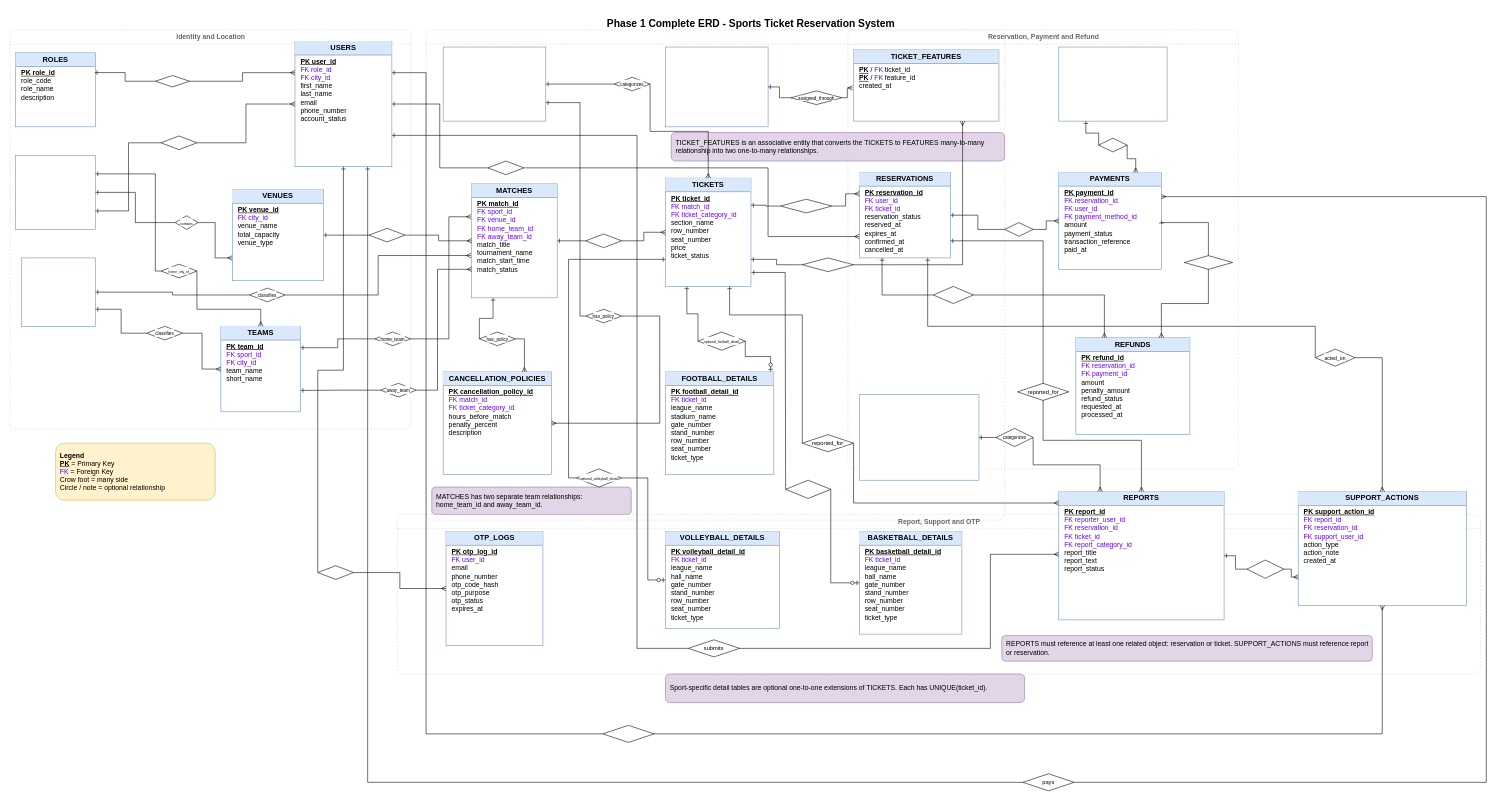
The diagram is 1501 pixels wide and 801 high, and some of its shapes have lost their labels. The shapes that lost their labels are listed below. From the top down, each one's box as (x1, y1, x2, y2) in pixels, then its label:
(155, 75, 190, 87): assigned_to
(443, 46, 546, 121): TICKET_CATEGORIES PK ticket_category_id category_code category_name description
(665, 46, 768, 127): FEATURES PK feature_id feature_code feature_name description
(1058, 46, 1167, 121): PAYMENT_METHODS PK payment_method_id method_code method_name is_active
(160, 135, 197, 150): residence_of
(1098, 138, 1127, 152): used_by
(487, 160, 524, 175): makes
(15, 155, 95, 229): CITIES PK city_id city_name province_name
(780, 199, 832, 213): reserved_by
(369, 228, 405, 242): hosts
(585, 233, 622, 248): offers
(1004, 222, 1033, 236): paid_by
(426, 29, 1005, 520): Sport, Match and Ticket
(802, 257, 854, 272): has_feature_link
(1184, 255, 1233, 269): refund_source
(21, 257, 95, 326): SPORTS PK sport_id sport_code sport_name description
(933, 286, 973, 304): refunded_by
(859, 394, 979, 480): REPORT_CATEGORIES PK report_category_id category_code category_name is_active
(785, 480, 831, 498): optional_basketball_detail
(317, 565, 354, 579): requests
(1246, 559, 1284, 578): handled_by
(602, 725, 654, 742): support_user
